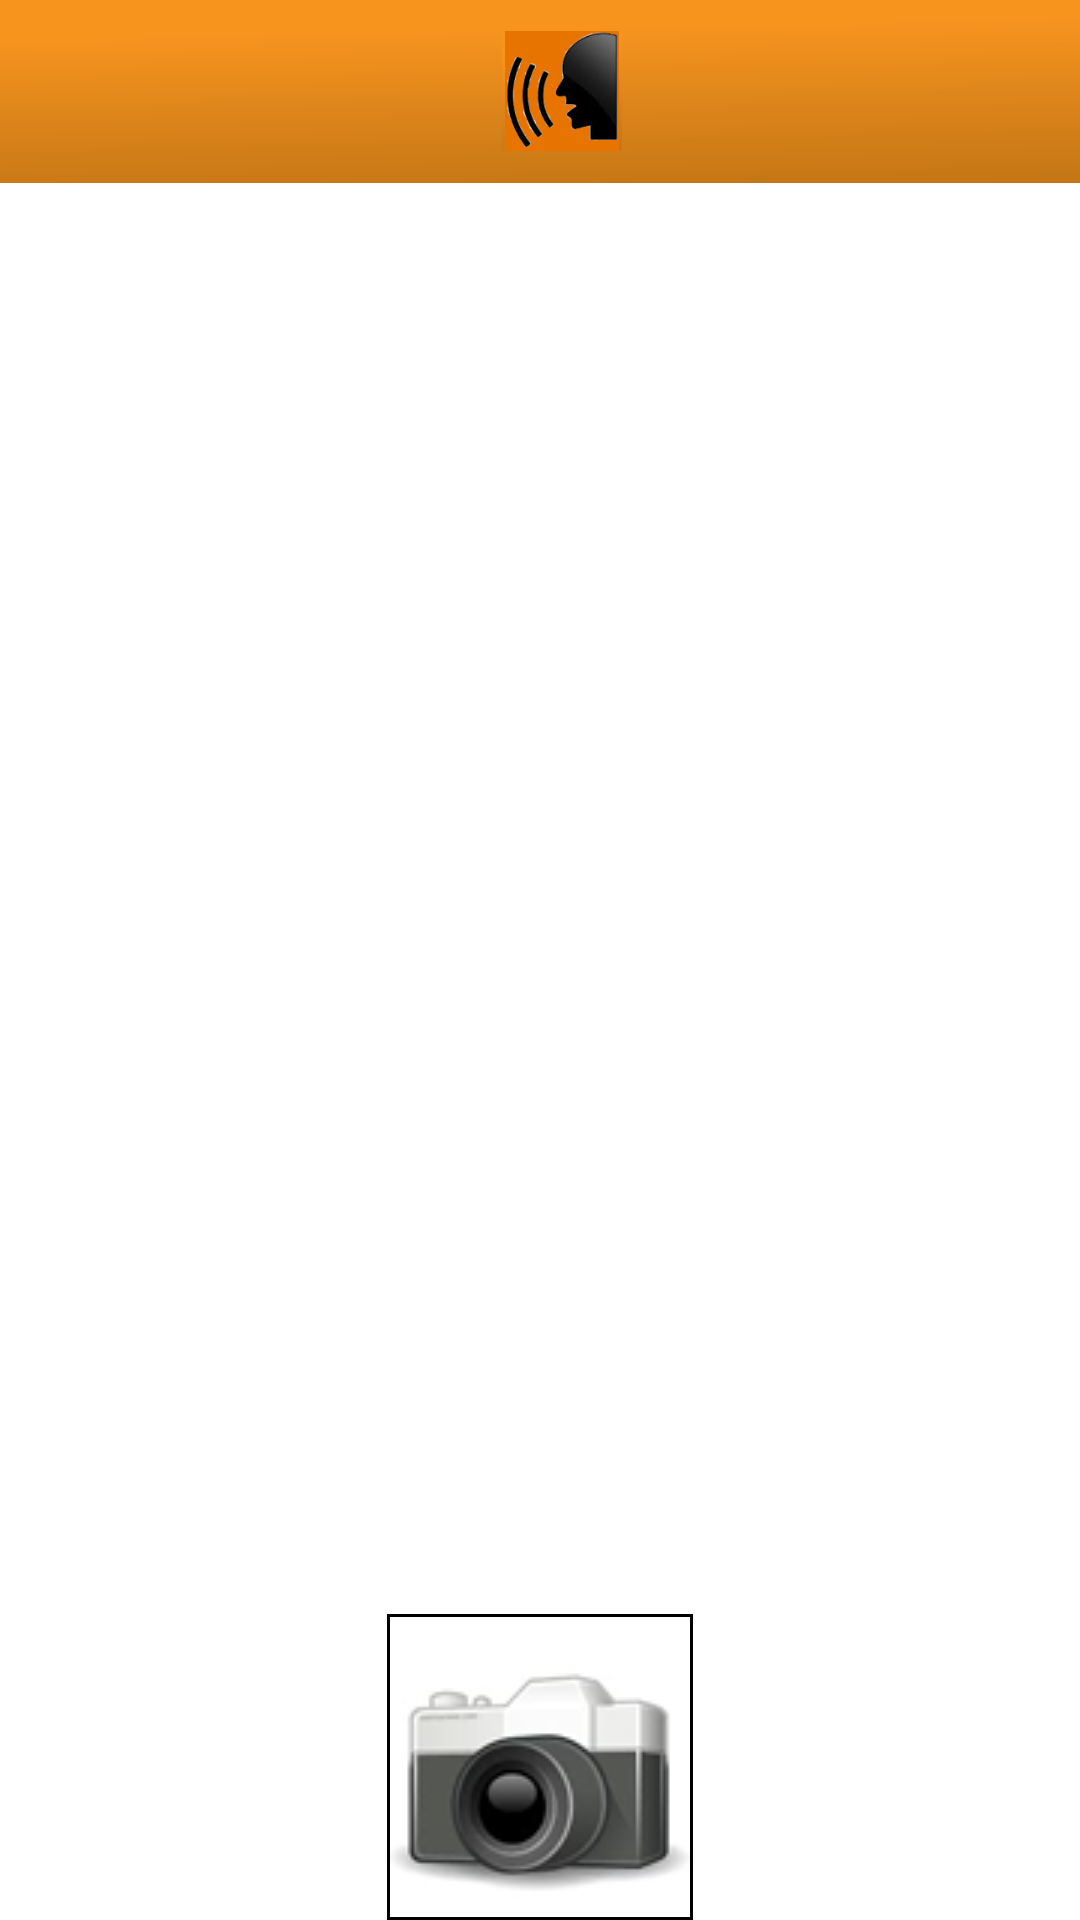

Named icons in this screenshot (1080x1920) and their centers, point (x, y):
Seleccione el icono de la cámara para tomar una foto: point (540, 1767)
Sound Icon: point (562, 91)
